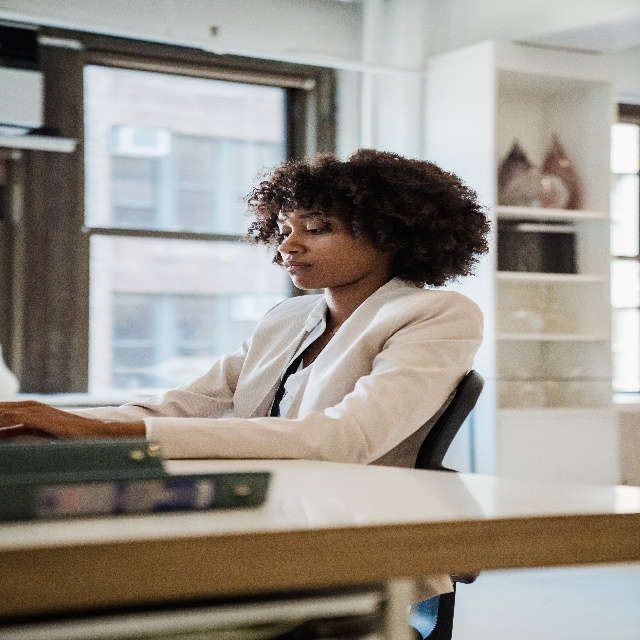Sin_guantes: (0, 401, 112, 441)
